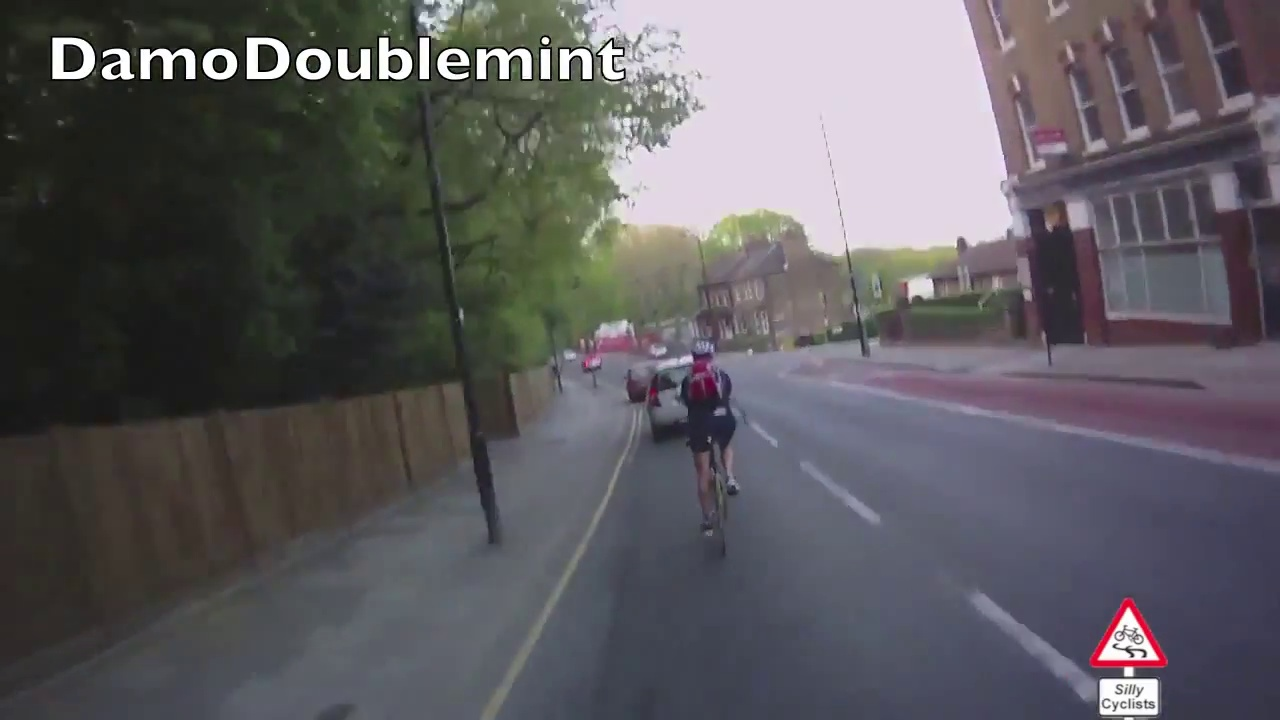cyclist_back: (676, 340, 754, 563)
